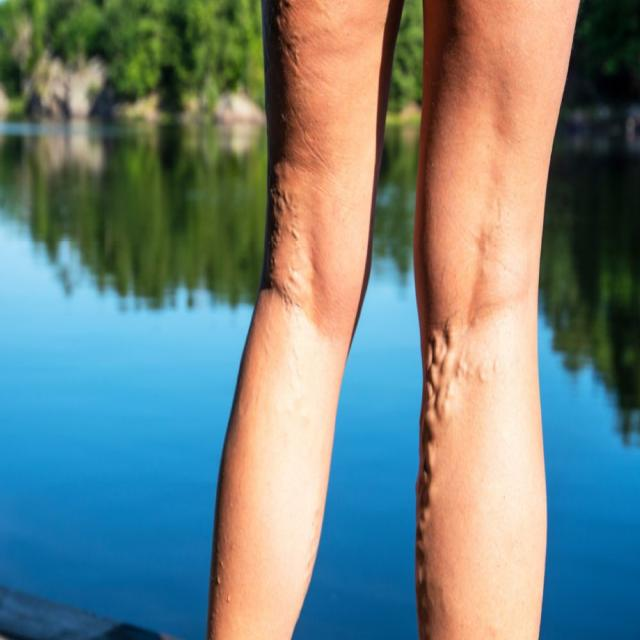Varicose: (270, 108, 559, 584)
